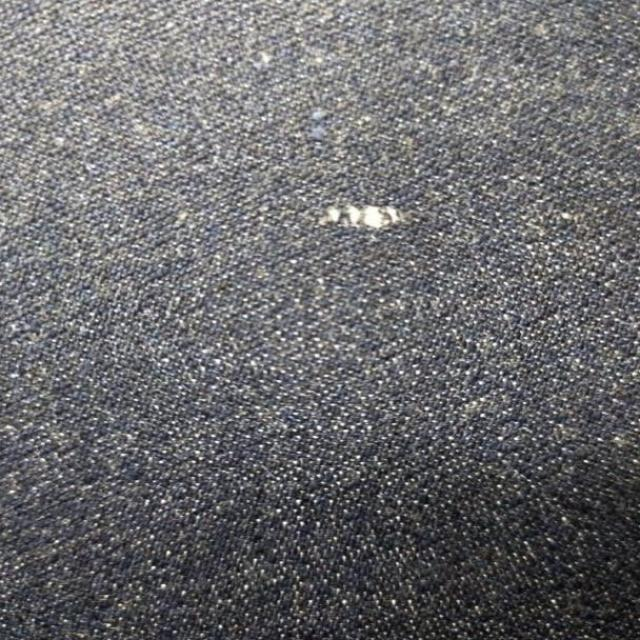Knot: (319, 205, 407, 229)
